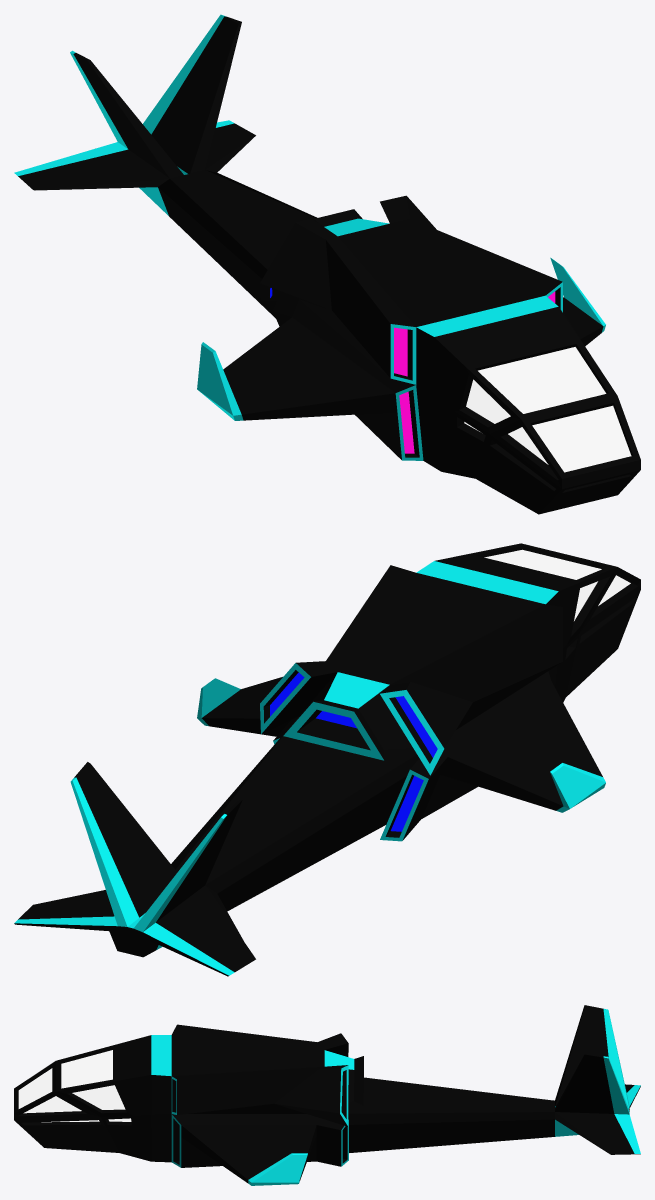
3 views of the same model, one above another, from view 1: azimuth 30°, elevation 25°; view 2: azimuth 150°, elevation 25°; view 3: azimuth 270°, elevation 25° (orthographic). The views are drawn at different scales.
Parts seen in each view (by area): view 1: Cube; view 2: Cube; view 3: Cube.
Part boxes in pixels (x1,y1,x2,y2): Cube: [14, 14, 640, 514]; Cube: [14, 543, 640, 976]; Cube: [14, 1005, 640, 1185].
Bounding box in the file's own units: 5.76 × 2.73 × 12.84.
